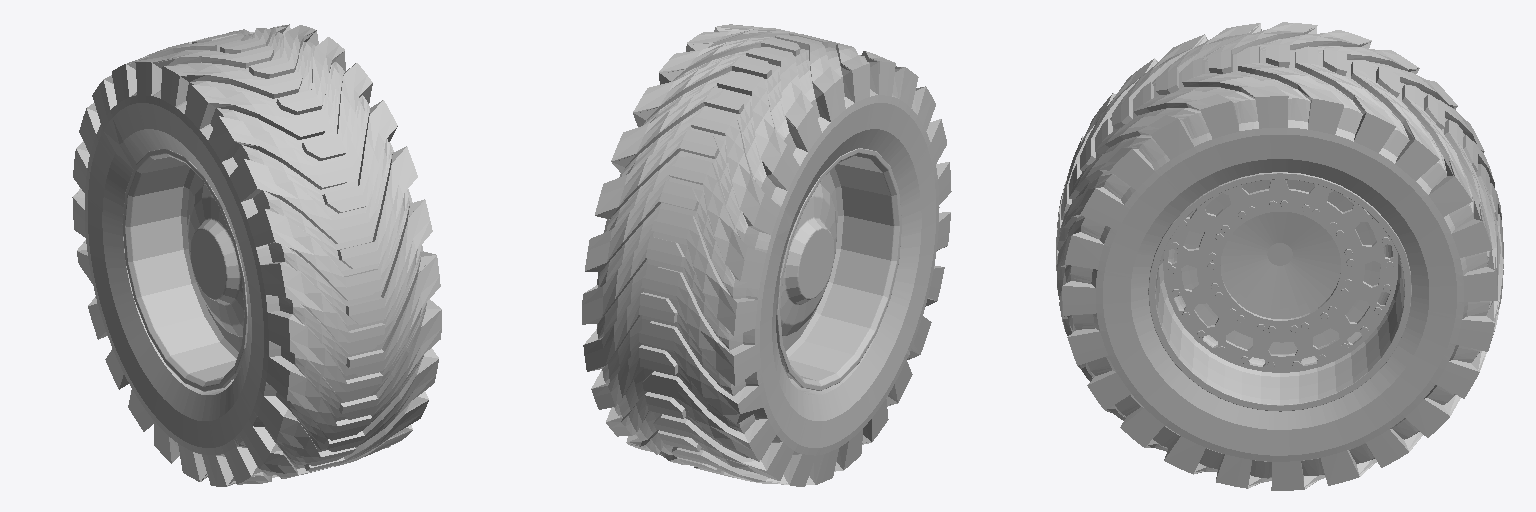
The model's file is tire.obj.
3 renders of one model, left to right at view 1: azimuth 30°, elevation 25°; view 2: azimuth 150°, elevation 25°; view 3: azimuth 270°, elevation 25°, orthographic.
Visible parts, largest first — view 1: batmobile_low:group6 batmobile_low:tires_low batmobile_low:polyS, batmobile_low:car_parts_2 batmobile_low:group6 batmobile_low:jun, batmobile_low:car_parts_2 batmobile_low:group6 batmobile_low:pCy; view 2: batmobile_low:group6 batmobile_low:tires_low batmobile_low:polyS, batmobile_low:car_parts_2 batmobile_low:group6 batmobile_low:jun, batmobile_low:car_parts_2 batmobile_low:group6 batmobile_low:pCy; view 3: batmobile_low:group6 batmobile_low:tires_low batmobile_low:polyS, batmobile_low:group6 batmobile_low:junt_low batmobile_low:polySu, batmobile_low:group6 batmobile_low:junt_metal_1_low batmobile_lo, batmobile_low:car_parts_2 batmobile_low:group2_pCylinder34 batmo.
Part boxes in pixels (left/top/right/bottom): batmobile_low:group6 batmobile_low:tires_low batmobile_low:polyS: left=72, top=24, right=441, bottom=486; batmobile_low:car_parts_2 batmobile_low:group6 batmobile_low:jun: left=122, top=149, right=247, bottom=391; batmobile_low:car_parts_2 batmobile_low:group6 batmobile_low:pCy: left=187, top=184, right=244, bottom=336; batmobile_low:group6 batmobile_low:tires_low batmobile_low:polyS: left=582, top=24, right=951, bottom=486; batmobile_low:car_parts_2 batmobile_low:group6 batmobile_low:jun: left=776, top=148, right=901, bottom=390; batmobile_low:car_parts_2 batmobile_low:group6 batmobile_low:pCy: left=780, top=183, right=836, bottom=336; batmobile_low:group6 batmobile_low:tires_low batmobile_low:polyS: left=1056, top=22, right=1503, bottom=490; batmobile_low:group6 batmobile_low:junt_low batmobile_low:polySu: left=1148, top=172, right=1411, bottom=411; batmobile_low:group6 batmobile_low:junt_metal_1_low batmobile_lo: left=1163, top=179, right=1397, bottom=372; batmobile_low:car_parts_2 batmobile_low:group2_pCylinder34 batmo: left=1168, top=200, right=1393, bottom=368.
Size of the model in its own units: 1.25 by 3.01 by 3.01.